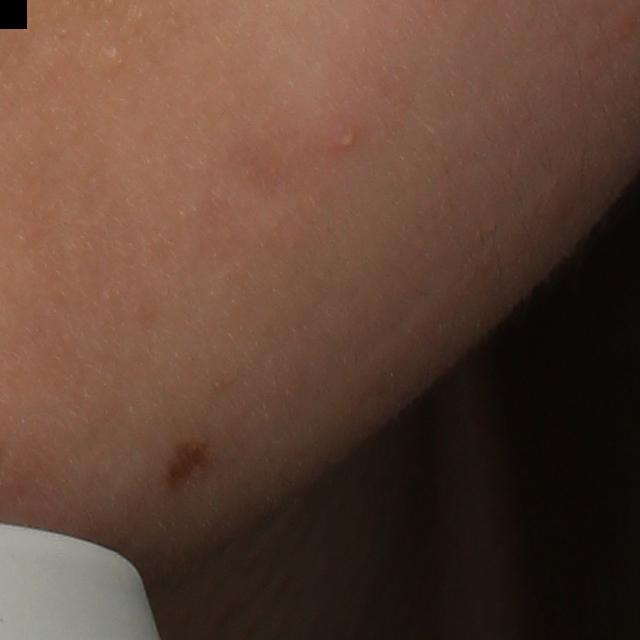comedo: (107, 45, 129, 72)
nevus: (164, 433, 215, 503)
pustule: (329, 123, 364, 157)
